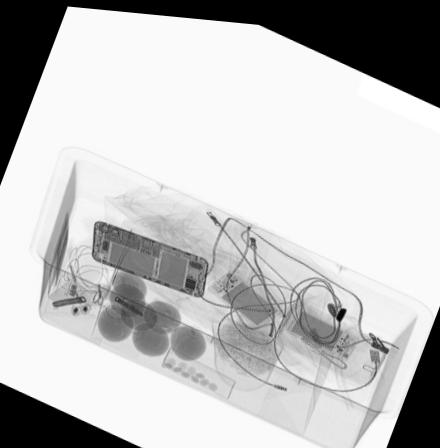Powerbank: (203, 264, 281, 324), (286, 301, 363, 355)
